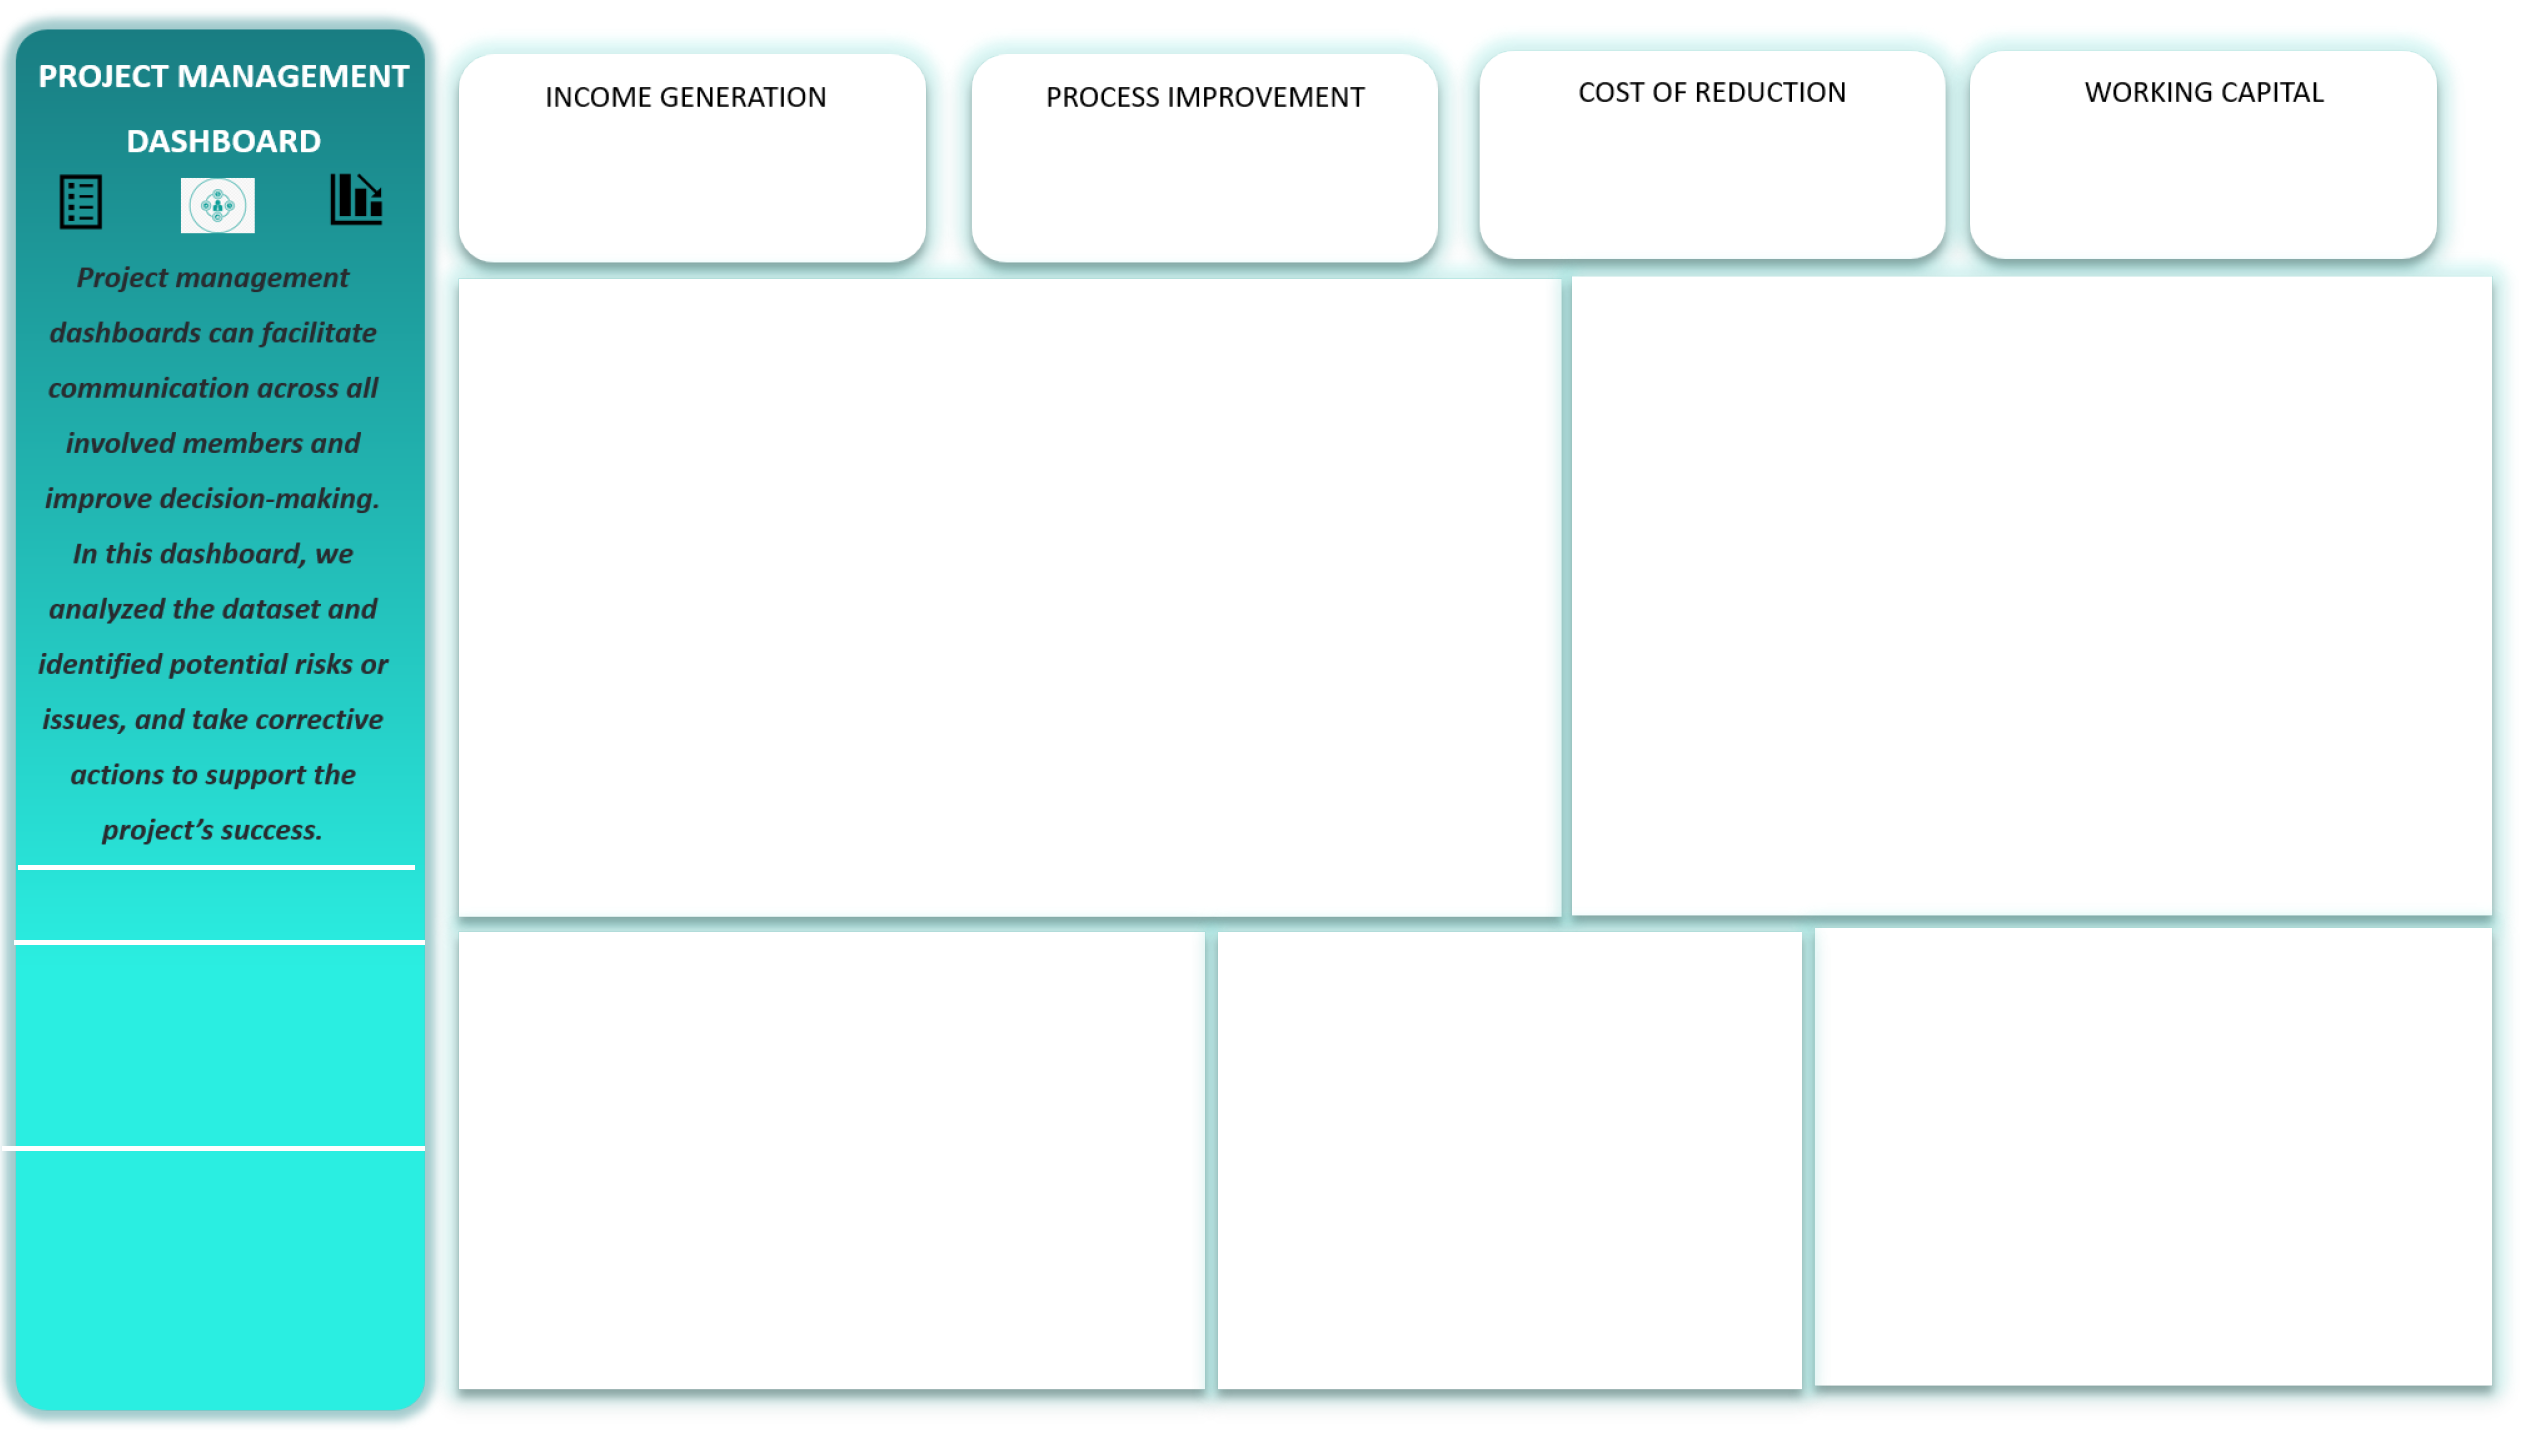

The dashboard page shown, as its layout file describes it:
{"tool":"powerbi","page":{"name":"Page 1","canvas":[1280,720],"ordinal":0},"visuals":[{"type":"image","box":[10.3,0,1269.7,719.7],"z":0},{"type":"card","fields":{"Values":["Project Management Dataset. Project Benefit "]},"box":[258.3,48.8,208.2,79.7],"z":1000},{"type":"card","fields":{"Values":["Project Management Dataset. Project Benefit "]},"box":[1006.3,48.8,208.2,79.7],"z":2000},{"type":"card","fields":{"Values":["Project Management Dataset. Project Benefit "]},"box":[514.1,48.8,208.2,79.7],"z":3000},{"type":"card","fields":{"Values":["Project Management Dataset. Project Benefit "]},"box":[762.1,48.8,208.2,79.7],"z":4000},{"type":"decompositionTreeVisual","title":"Project Completion Rate","fields":{"Analyze":["Project Management Dataset.Completion%"],"ExplainBy":["Project Management Dataset.Department","Project Management Dataset.Phase"]},"box":[255.7,142.7,535.9,313.6],"z":5000},{"type":"pieChart","title":"Project by Project Manager","fields":{"Category":["Project Management Dataset.Project Manager"],"Y":["Project Management Dataset.Project Manager"]},"box":[800.6,142.7,451.1,313.6],"z":6000},{"type":"lineStackedColumnComboChart","fields":{"Category":["Project Management Dataset.Month","Project Management Dataset.End Date"],"Y":["Project Management Dataset. Project Cost "],"Y2":["Project Management Dataset. Project Benefit "]},"box":[244.2,465.2,374,226.2],"z":7000},{"type":"funnel","title":"Project by Complexity","fields":{"Category":["Project Management Dataset.Complexity"],"Y":["Project Management Dataset.Project Name"]},"box":[627.1,465.2,286.6,215.9],"z":7001},{"type":"card","title":"Total Project","fields":{"Values":["Project Management Dataset.Project Name"]},"box":[947.1,465.2,284,92.5],"z":7002},{"type":"gauge","title":"Ongoing Project","fields":{"Y":["Project Management Dataset.Status"]},"box":[926.6,573.2,163.2,109.2],"z":7003},{"type":"gauge","title":"Ongoing Project","fields":{"Y":["Project Management Dataset.Status"]},"box":[1089.8,571.9,163.2,109.2],"z":7004}]}

Visuals, with their boxes in screenshot pixels (x1, y1, x2, y2), scaled from the page's 1280x720 canvas onto the 2523x1437 screenshot:
image: <bbox>20, 0, 2522, 1436</bbox>
card - Project Management Dataset. Project Benefit : <bbox>509, 97, 920, 256</bbox>
card - Project Management Dataset. Project Benefit : <bbox>1984, 97, 2394, 256</bbox>
card - Project Management Dataset. Project Benefit : <bbox>1013, 97, 1424, 256</bbox>
card - Project Management Dataset. Project Benefit : <bbox>1502, 97, 1913, 256</bbox>
"Project Completion Rate" decompositionTreeVisual: <bbox>504, 285, 1560, 911</bbox>
"Project by Project Manager" pieChart: <bbox>1578, 285, 2467, 911</bbox>
lineStackedColumnComboChart - Project Management Dataset.Month x Project Management Dataset.End Date: <bbox>481, 928, 1219, 1380</bbox>
"Project by Complexity" funnel: <bbox>1236, 928, 1801, 1359</bbox>
"Total Project" card: <bbox>1867, 928, 2427, 1113</bbox>
"Ongoing Project" gauge: <bbox>1826, 1144, 2148, 1362</bbox>
"Ongoing Project" gauge: <bbox>2148, 1141, 2470, 1359</bbox>
